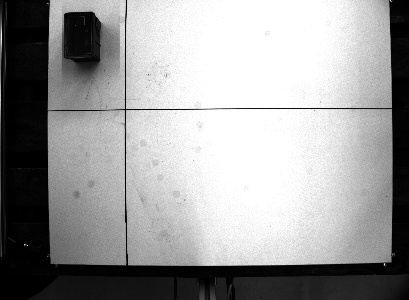kltxs: (61, 9, 102, 65)
